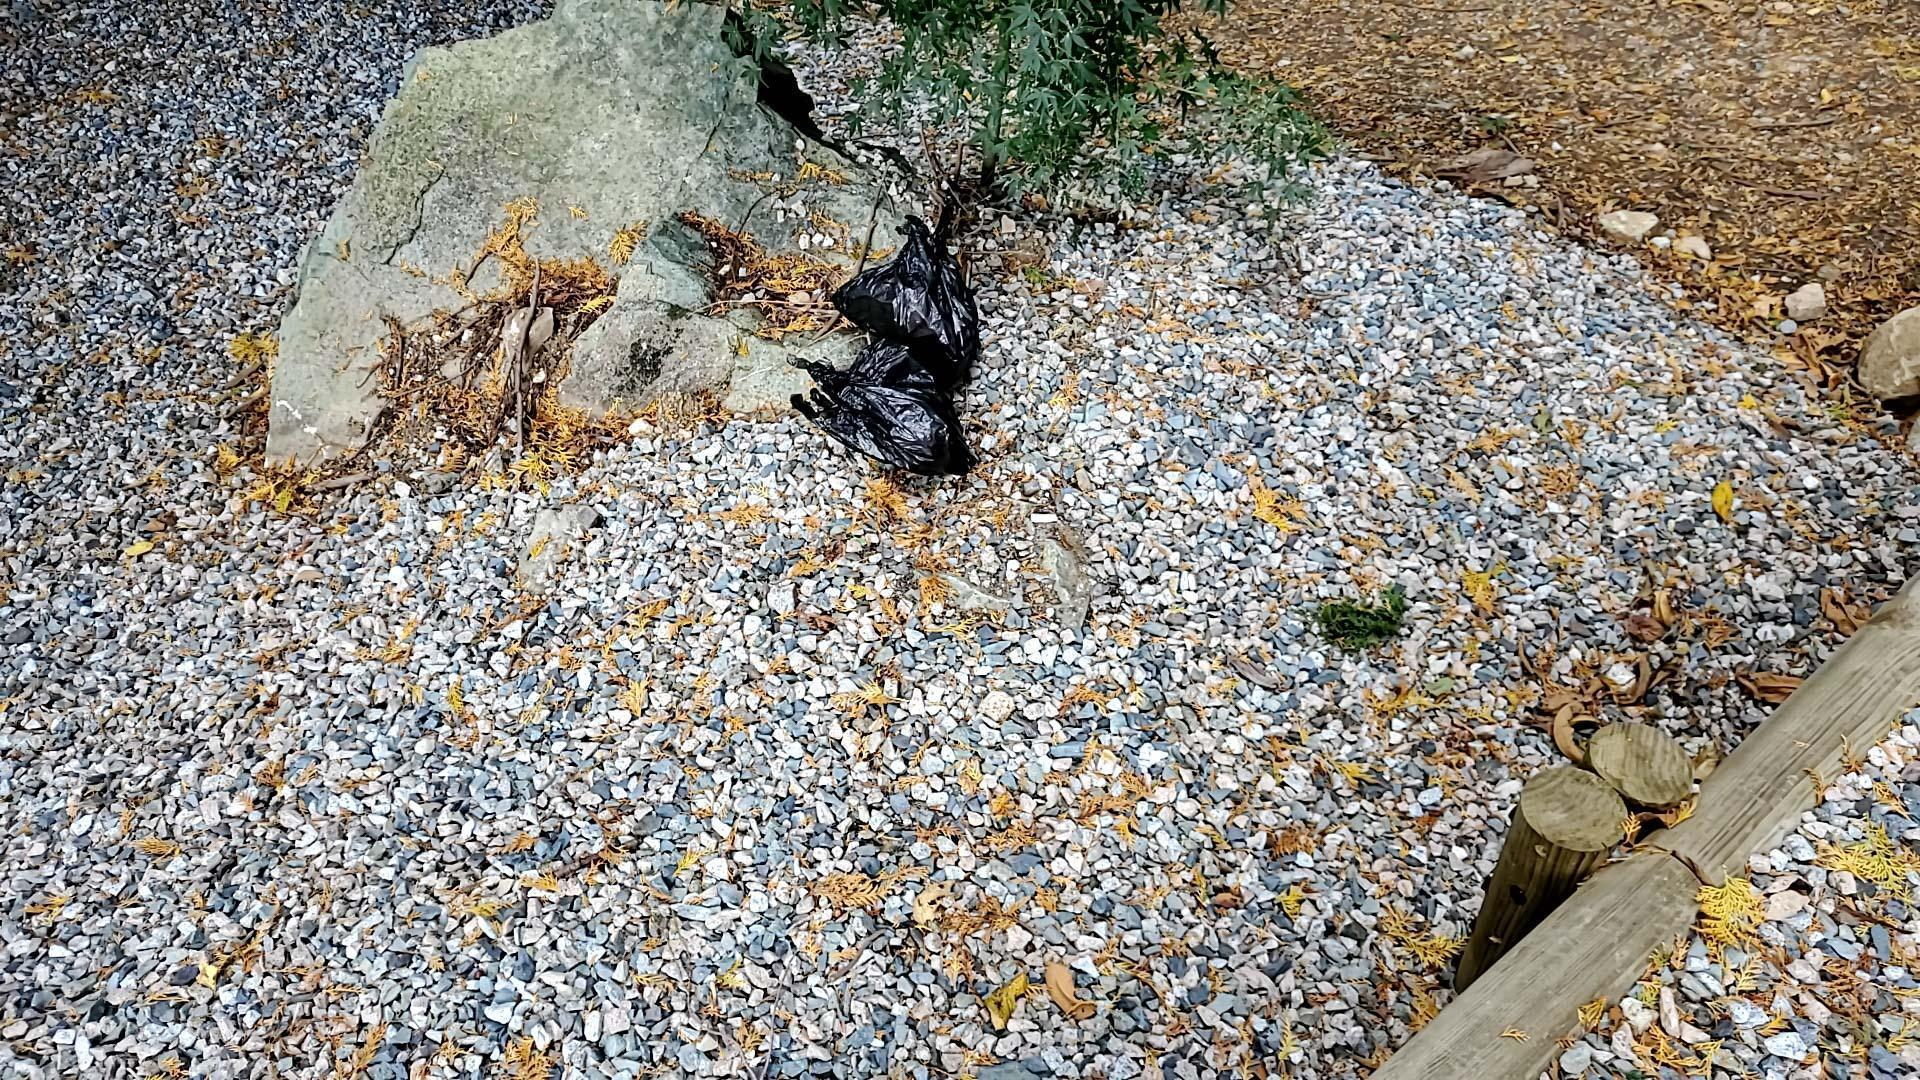black_bag: (779, 324, 989, 495), (831, 196, 992, 390)
